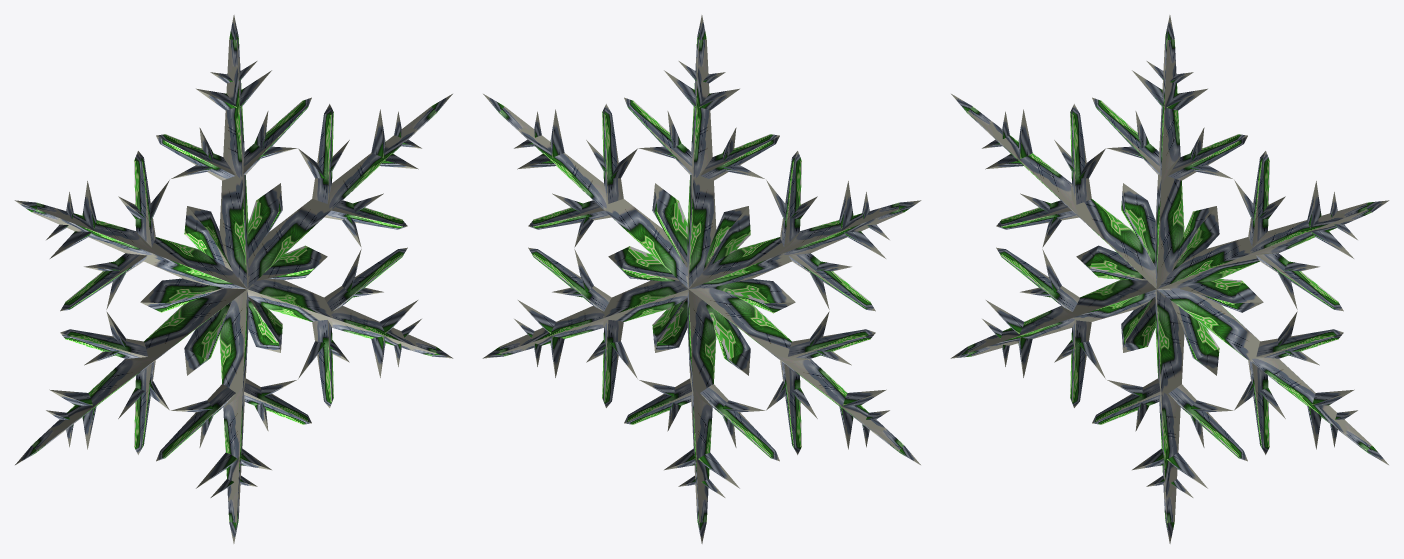
Rendered from icon.ico.obj.
The picture shows the model from 3 angles, left to right: view 1: azimuth 30°, elevation 25°; view 2: azimuth 150°, elevation 25°; view 3: azimuth 330°, elevation 25°; orthographic projection.
Bounding box in the file's own units: 4.29 × 4.95 × 0.4497.
